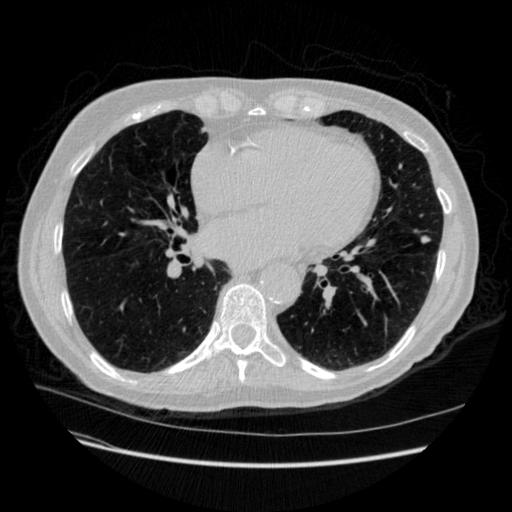nodule: (418, 233, 432, 247)
